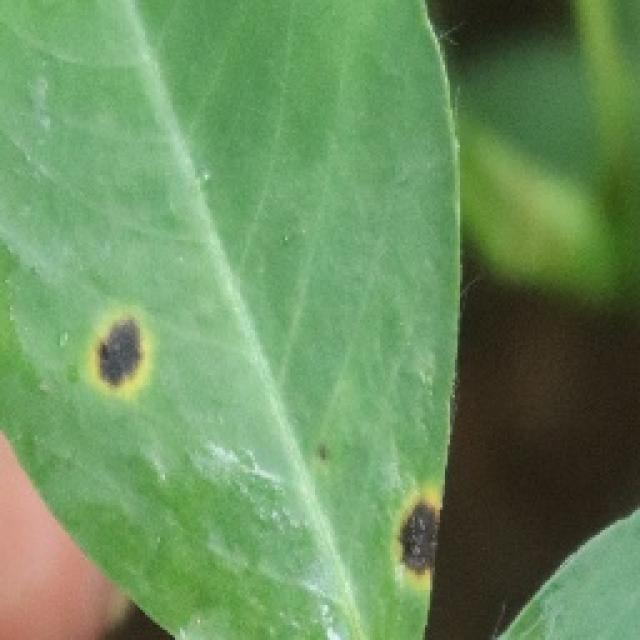Early_leaf_spot: (55, 299, 198, 467), (363, 472, 457, 584)
